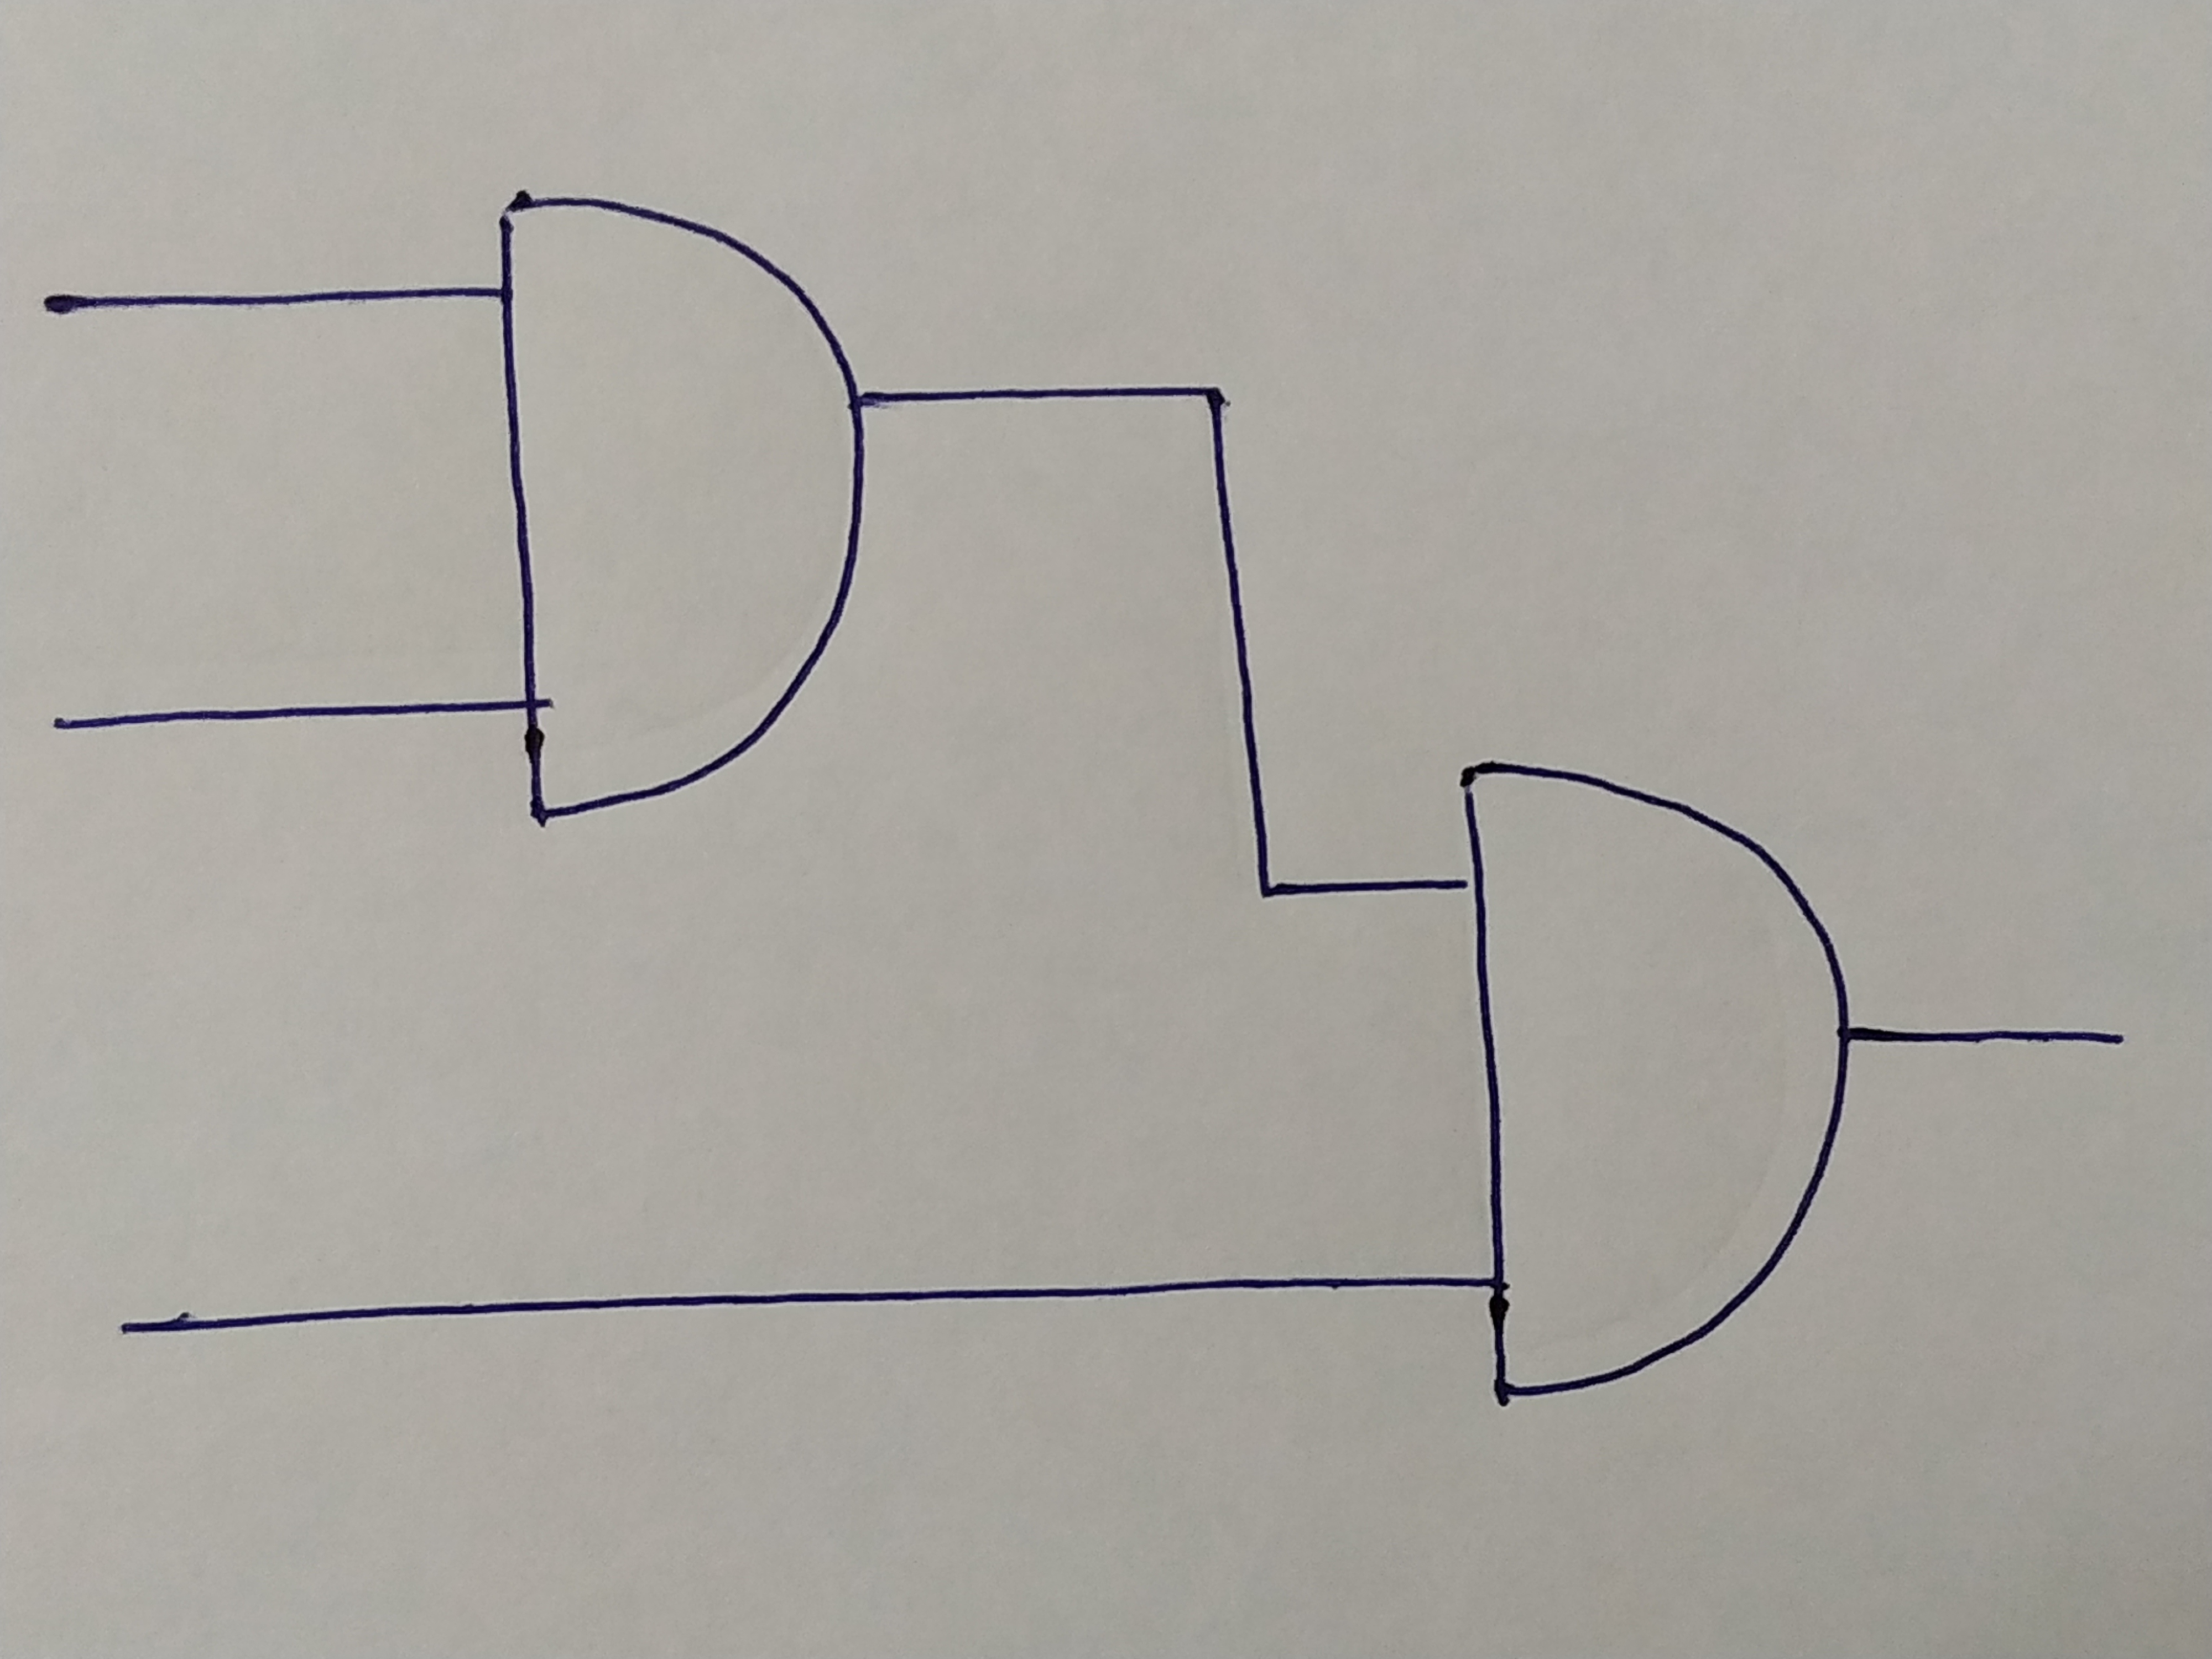and: (1460, 758, 1853, 1399), (493, 186, 860, 819)
